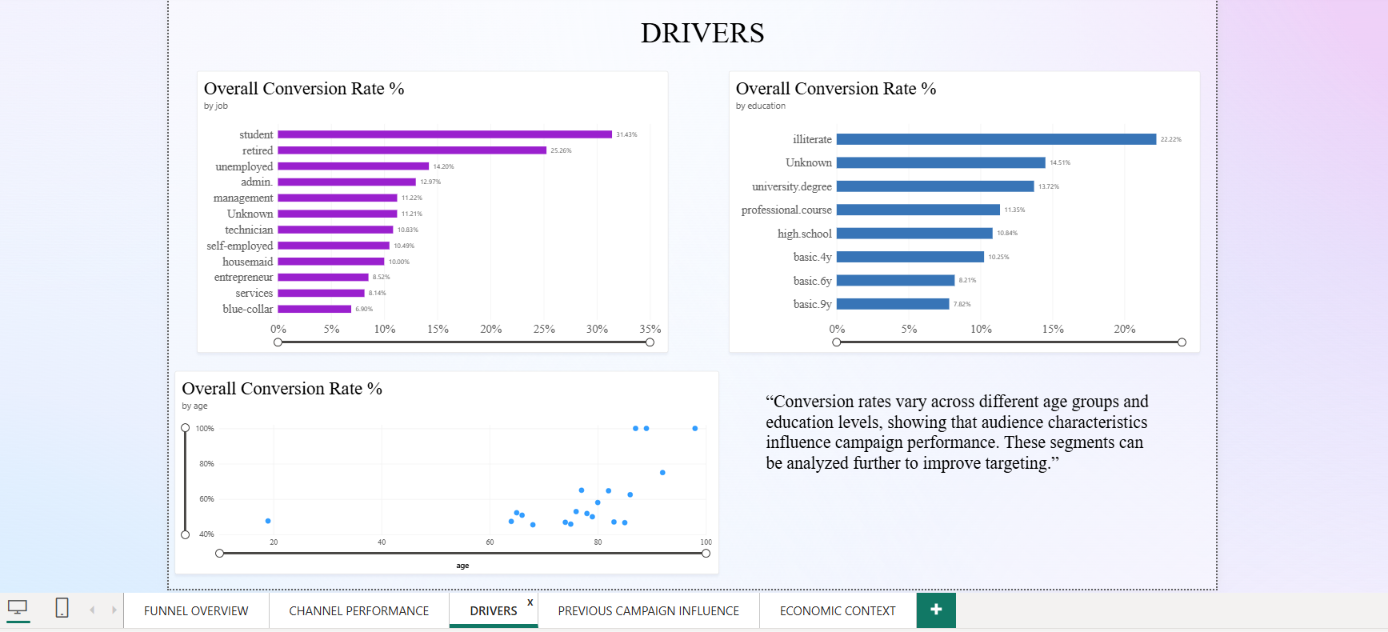

The dashboard page shown, as its layout file describes it:
{"tool":"powerbi","page":{"name":"DRIVERS","canvas":[1920,1080],"ordinal":2},"visuals":[{"type":"barChart","fields":{"Category":["cleaned_bank_marketing.job"],"Y":["channel_summary.Overall Conversion Rate %"]},"box":[51.5,129.7,864.5,516.6],"z":0},{"type":"barChart","fields":{"Category":["cleaned_bank_marketing.education"],"Y":["channel_summary.Overall Conversion Rate %"]},"box":[1027.1,129.7,864.5,516.6],"z":1},{"type":"scatterChart","fields":{"X":["cleaned_bank_marketing.age"],"Y":["channel_summary.Overall Conversion Rate %"]},"box":[10.3,681.3,998.3,372.6],"z":2},{"type":"textbox","box":[1095,716.3,728.6,337.6],"z":3},{"type":"textbox","box":[866.6,28.8,321.1,100.9],"z":4}]}

Visuals, with their boxes on the page's 1920x1080 design canvas (x1, y1, x2, y2). These are canvas units, not pixel positions in the 1388x632 screenshot, which may show the page scaled, cropped or inside an application window:
barChart - cleaned_bank_marketing.job x channel_summary.Overall Conversion Rate %: box=[52, 130, 916, 646]
barChart - cleaned_bank_marketing.education x channel_summary.Overall Conversion Rate %: box=[1027, 130, 1892, 646]
scatterChart - cleaned_bank_marketing.age x channel_summary.Overall Conversion Rate %: box=[10, 681, 1009, 1054]
textbox: box=[1095, 716, 1824, 1054]
textbox: box=[867, 29, 1188, 130]
